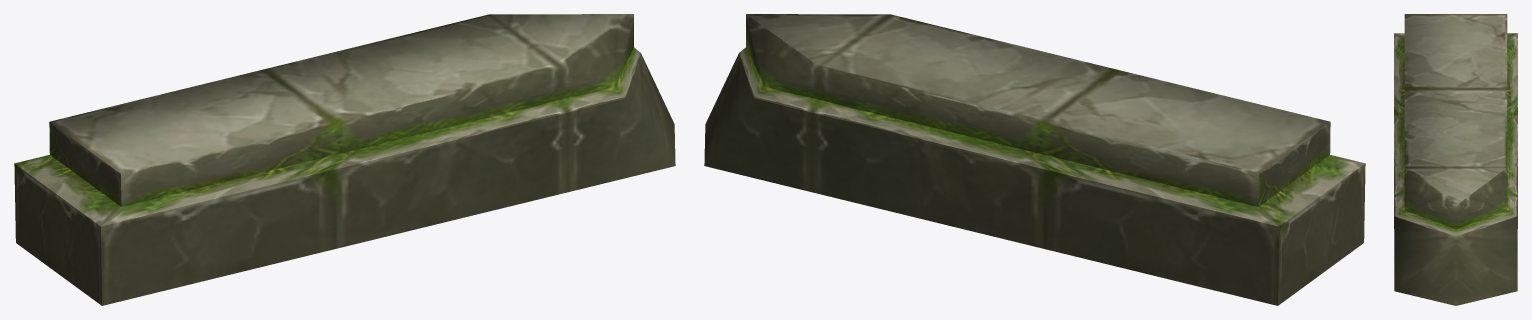
File: qiang17_01.FBX
3 renders of one model, left to right at view 1: azimuth 30°, elevation 25°; view 2: azimuth 150°, elevation 25°; view 3: azimuth 270°, elevation 25°, orthographic. The views are drawn at different scales.
Parts seen in each view (by area): view 1: qiang17_01; view 2: qiang17_01; view 3: qiang17_01.
Part boxes in pixels (<box>): qiang17_01: <box>14,14,675,305</box>; qiang17_01: <box>704,14,1365,305</box>; qiang17_01: <box>1394,14,1517,305</box>.
Size of the model in its own units: 280 by 52.07 by 67.86.
Materials: 1 (1 with a texture image).
